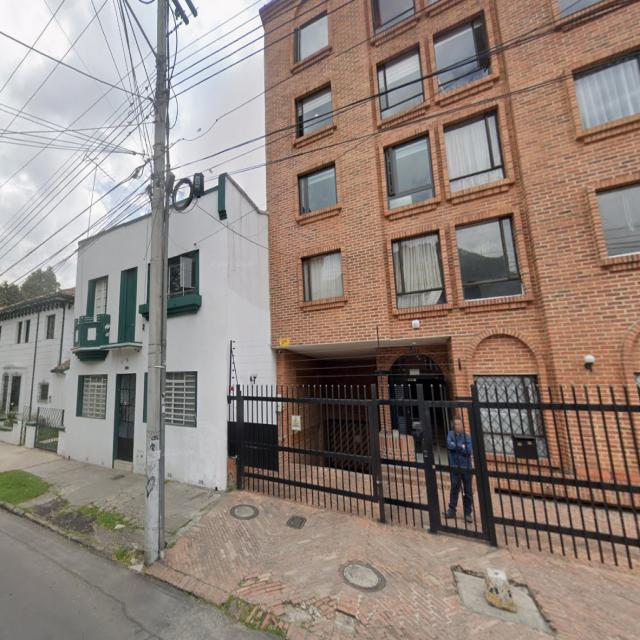fachada: (261, 0, 639, 400), (166, 174, 275, 489), (0, 289, 74, 444)
poste: (145, 0, 167, 564)
